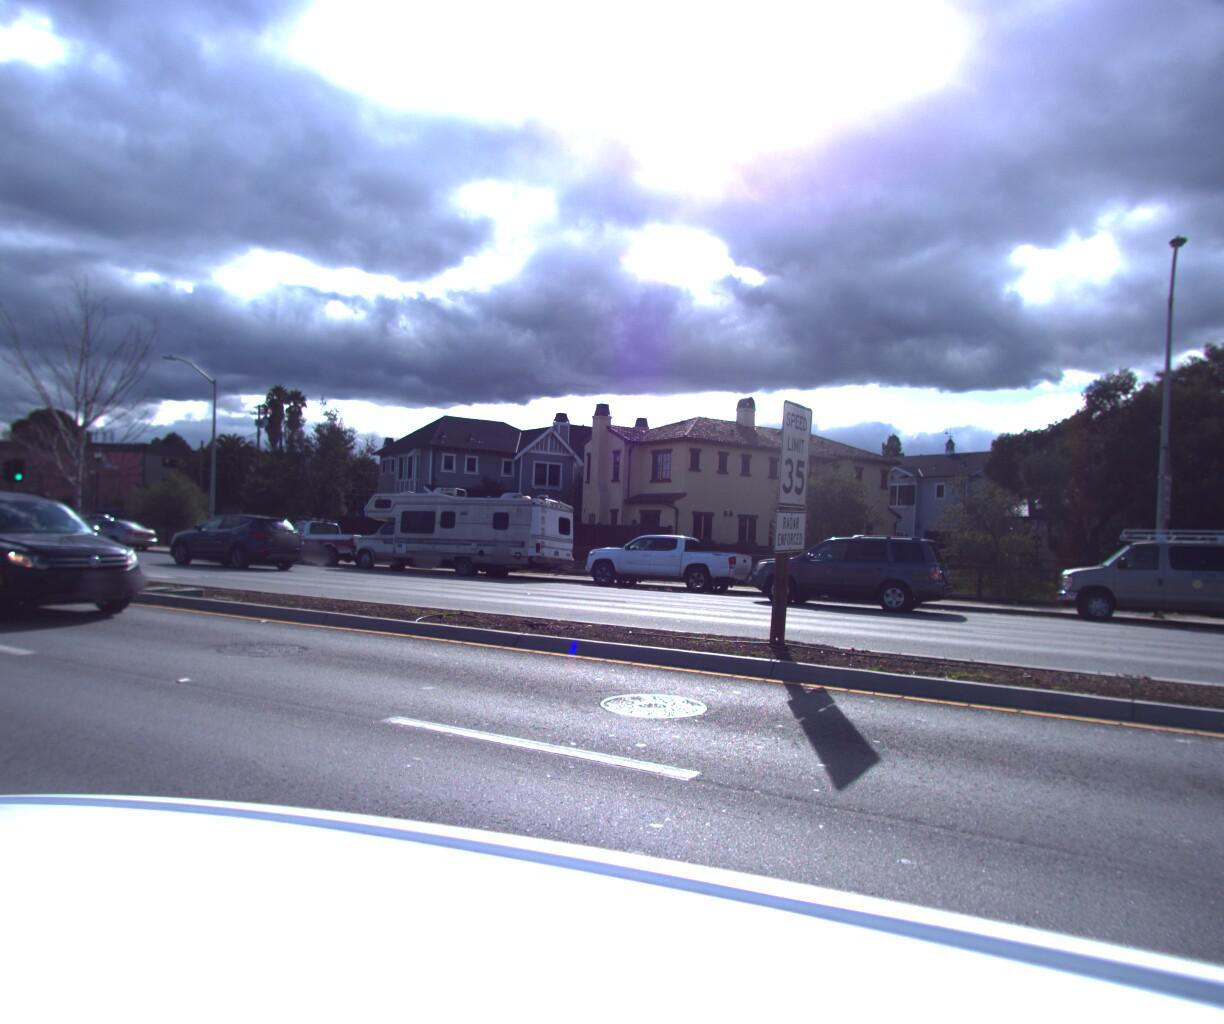car: (0, 484, 169, 631), (734, 524, 969, 614), (1040, 515, 1224, 629), (571, 521, 759, 594), (152, 502, 315, 568), (255, 510, 393, 565), (50, 511, 164, 545)
other_vehicle: (347, 473, 583, 580)
